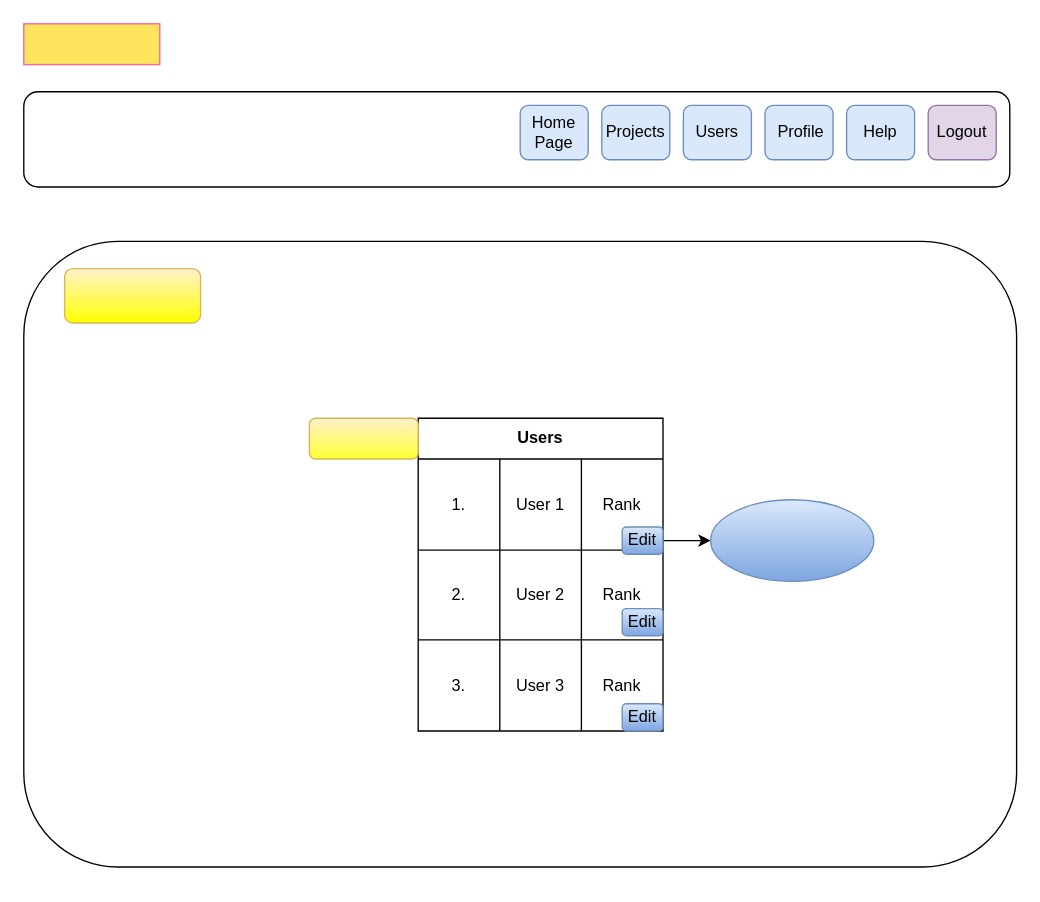
The diagram is 1040 pixels wide and 902 high, and some of its shapes have lost their labels. Here are the shapes that lost their labels. From the top down, the centre of each, then its label:
(91,43): User page
(132,295): Users list
(363,438): List
(791,539): Admin only
